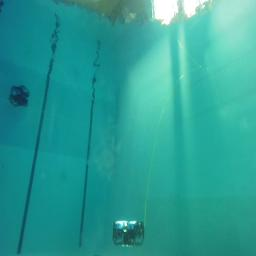Full: (9, 85, 30, 107)
front: (112, 220, 146, 247)
